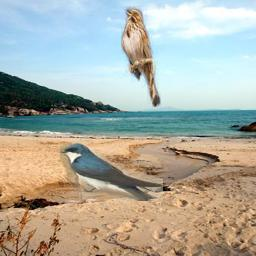Sparrow: (121, 6, 161, 108)
Swallow: (60, 142, 163, 201)
